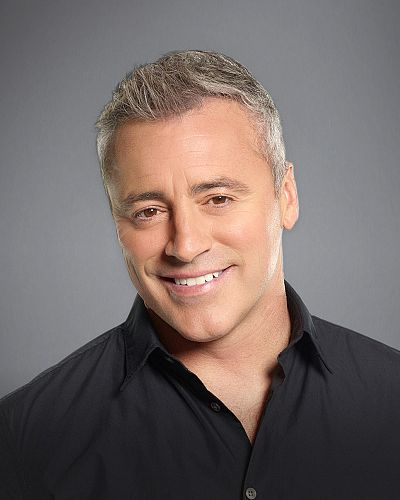Without Helmet: (89, 45, 312, 346)
